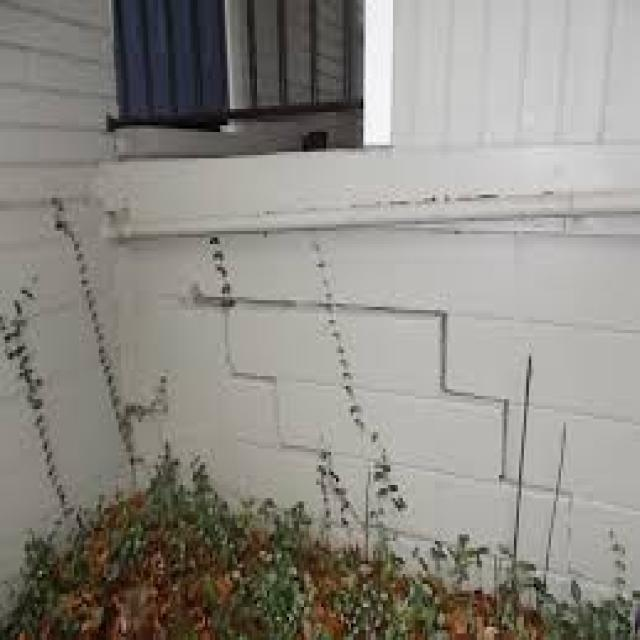Crack: (186, 287, 574, 567)
